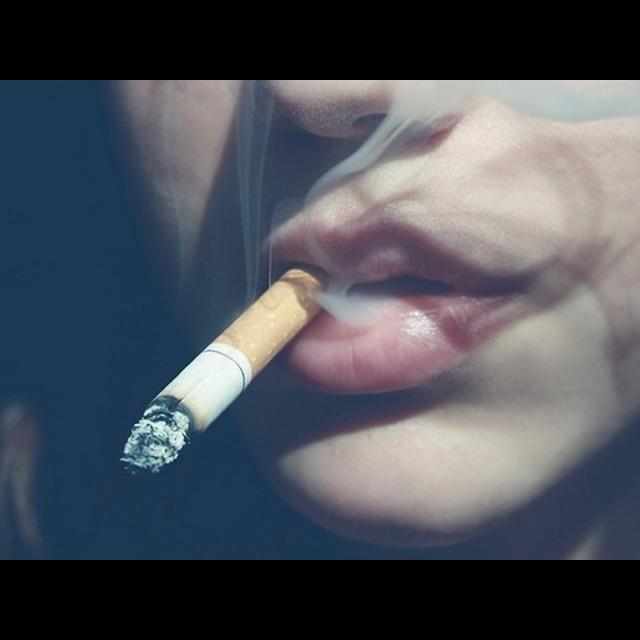rokok: (112, 254, 318, 472)
